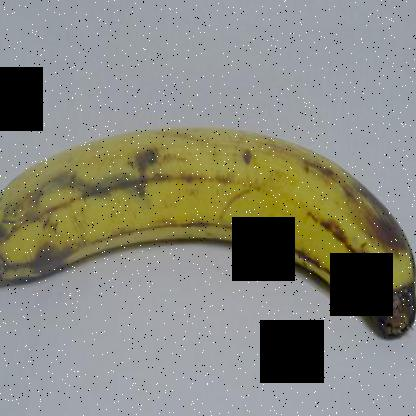ripe: (1, 104, 415, 362)
